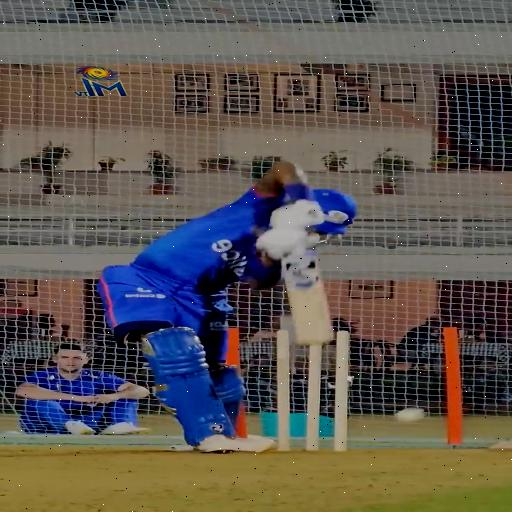Cricket bat: (282, 244, 331, 346)
